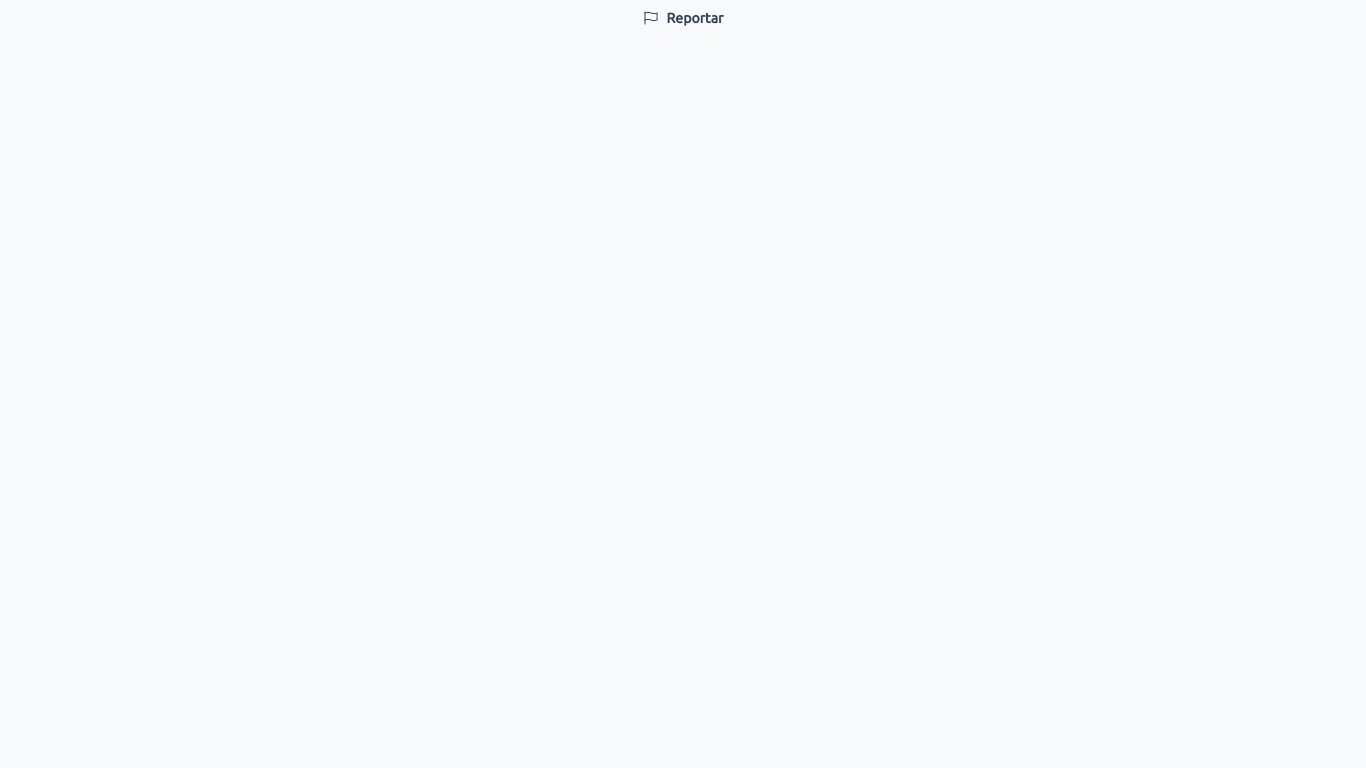
Scenario: ReportButton › con sesión abre la ventana de reporte
Click the button named "Reportar el comentario de Marta".
click(683, 18)  # box x1=0 y1=0 x2=1365 y2=36
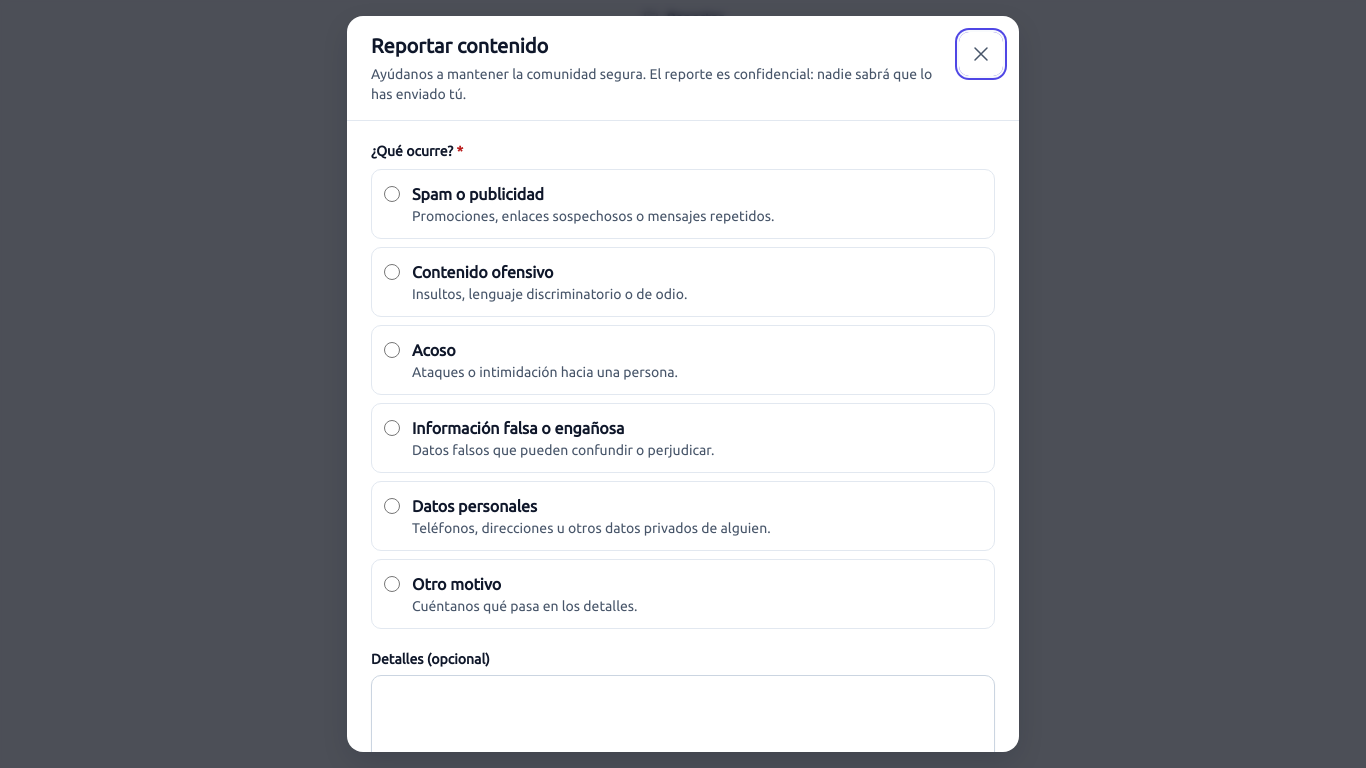
Now the dialog "Reportar contenido" is shown, box x1=347 y1=16 x2=1019 y2=752
